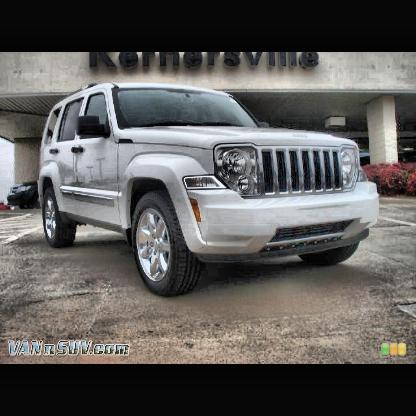Jeep Liberty SUV 2012: (38, 81, 380, 297)
